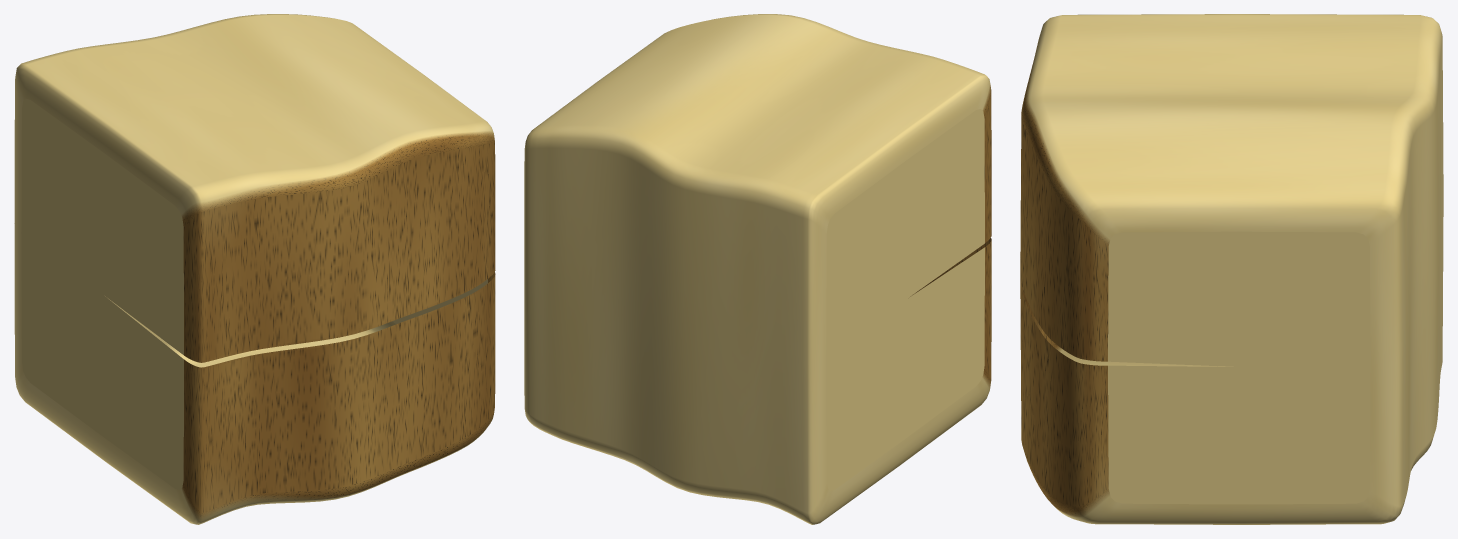
The model's file is fries.glb.
3 views of the same model, side by side, from view 1: azimuth 30°, elevation 25°; view 2: azimuth 150°, elevation 25°; view 3: azimuth 270°, elevation 25° (orthographic). The views are drawn at different scales.
Visible parts, largest first — view 1: fries; view 2: fries; view 3: fries.
Boxes of the visible parts, bbox=[...] form: fries: bbox=[14, 14, 495, 524]; fries: bbox=[524, 14, 991, 524]; fries: bbox=[1020, 14, 1443, 524].
Size of the model in its own units: 2 by 2.04 by 2.1.
Materials: 1 (1 with a texture image).
